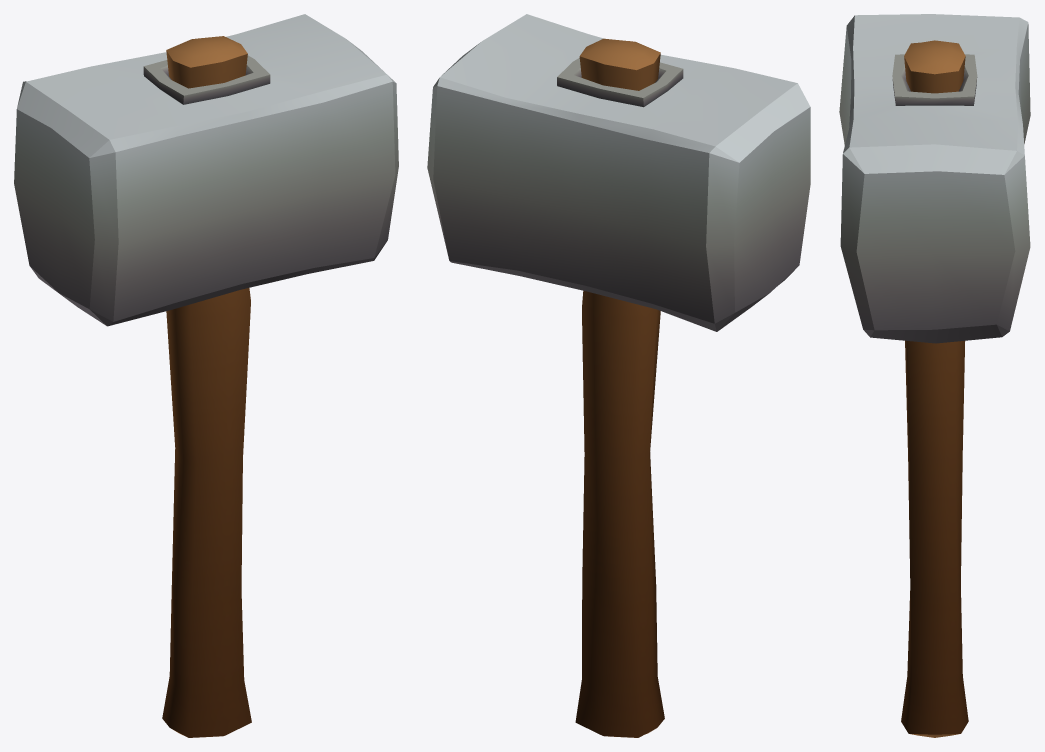
File: Hammer_02.glb
3 renders of one model, left to right at view 1: azimuth 30°, elevation 25°; view 2: azimuth 150°, elevation 25°; view 3: azimuth 270°, elevation 25°, orthographic.
Visible parts, largest first — view 1: Hammer_02; view 2: Hammer_02; view 3: Hammer_02.
Part boxes in pixels (bbox=[...]): Hammer_02: bbox=[14, 14, 398, 737]; Hammer_02: bbox=[427, 14, 810, 737]; Hammer_02: bbox=[839, 14, 1030, 737].
Size of the model in its own units: 0.4901 by 1.03 by 0.263.
1 material, 1 textured.
